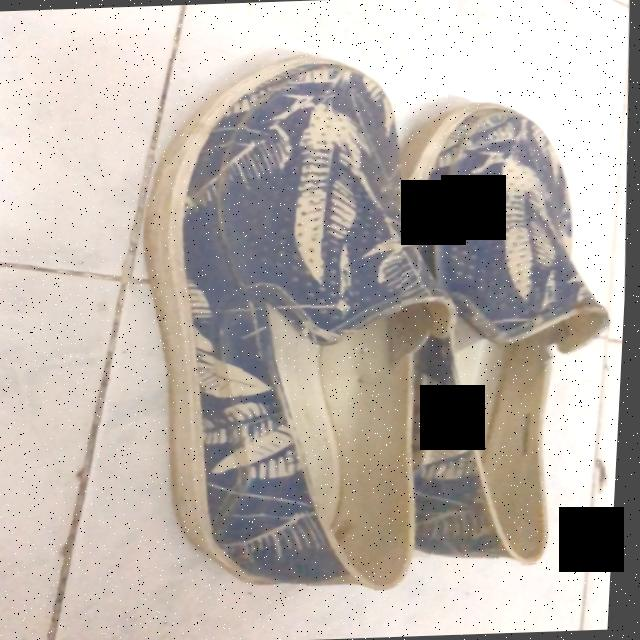shoe: (146, 56, 447, 590), (405, 102, 611, 564)
